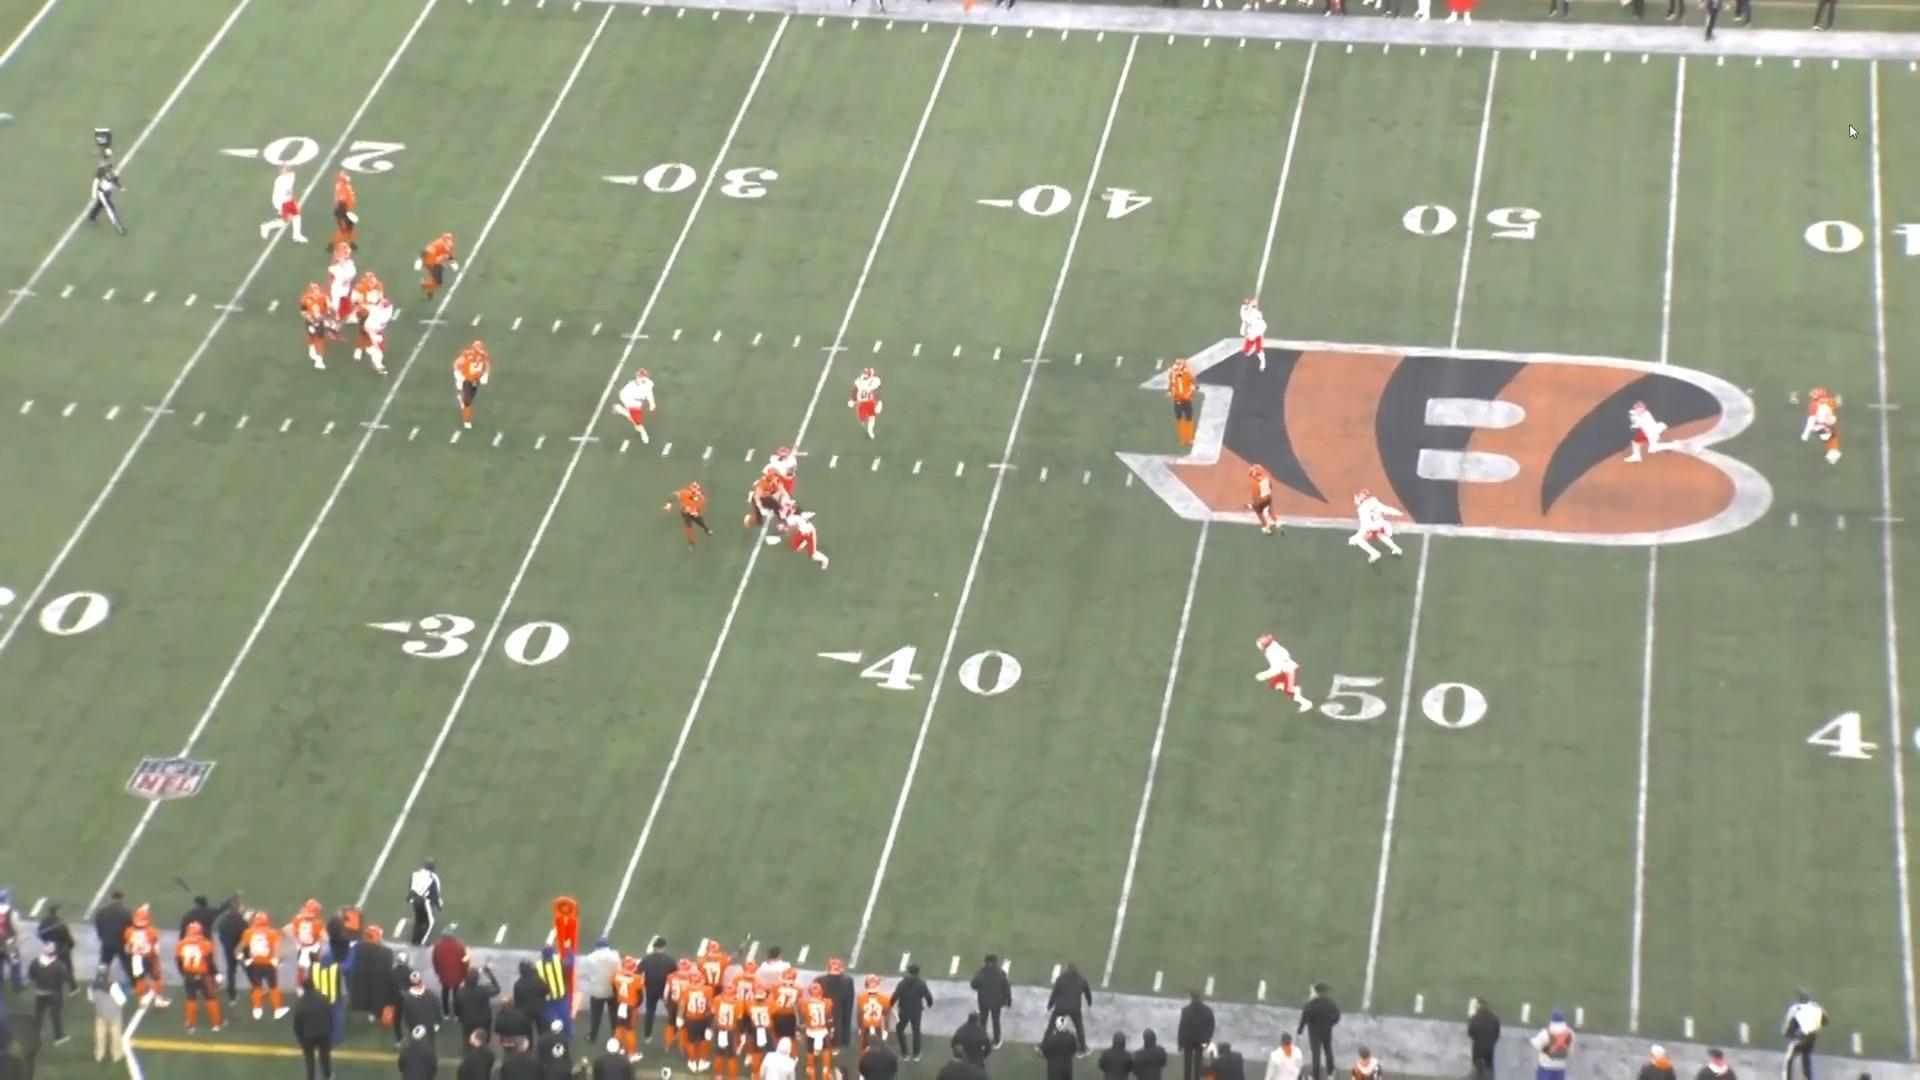20L: (218, 136, 410, 177), (0, 585, 109, 640)
30L: (368, 612, 568, 663), (600, 162, 778, 198)
40L: (818, 645, 1022, 696), (977, 183, 1151, 220)
40R: (1803, 709, 1920, 761), (1803, 219, 1920, 257)
50: (1319, 671, 1486, 728), (1402, 202, 1542, 240)
